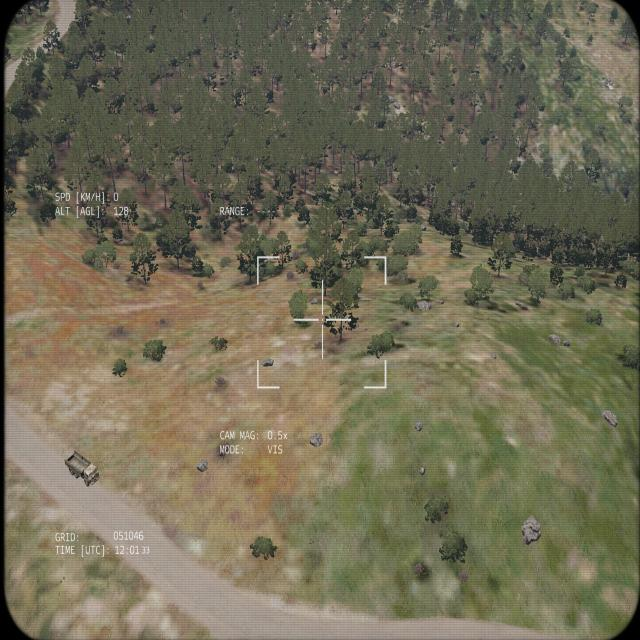truck: (63, 448, 101, 488)
